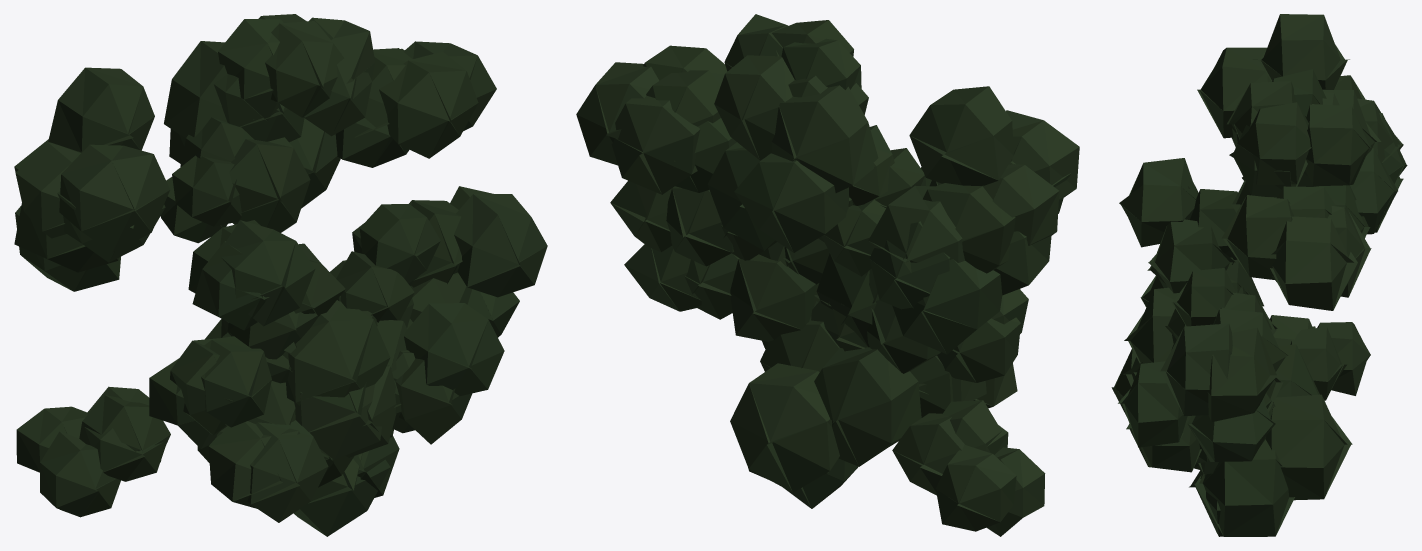
File: tree_m1_far.obj
3 views of the same model, side by side, from view 1: azimuth 30°, elevation 25°; view 2: azimuth 150°, elevation 25°; view 3: azimuth 270°, elevation 25° (orthographic). The views are drawn at different scales.
Bounding box in the file's own units: 1.63 × 1.64 × 0.9893.
1 material, 1 textured.
